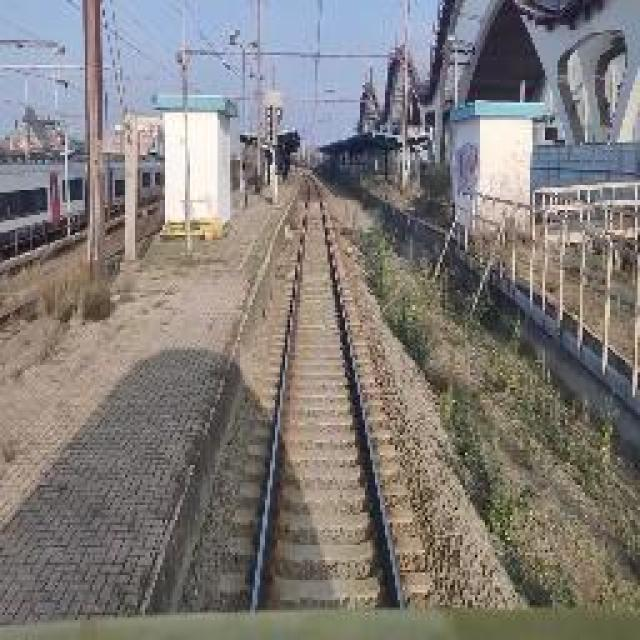rail: (209, 166, 445, 614)
